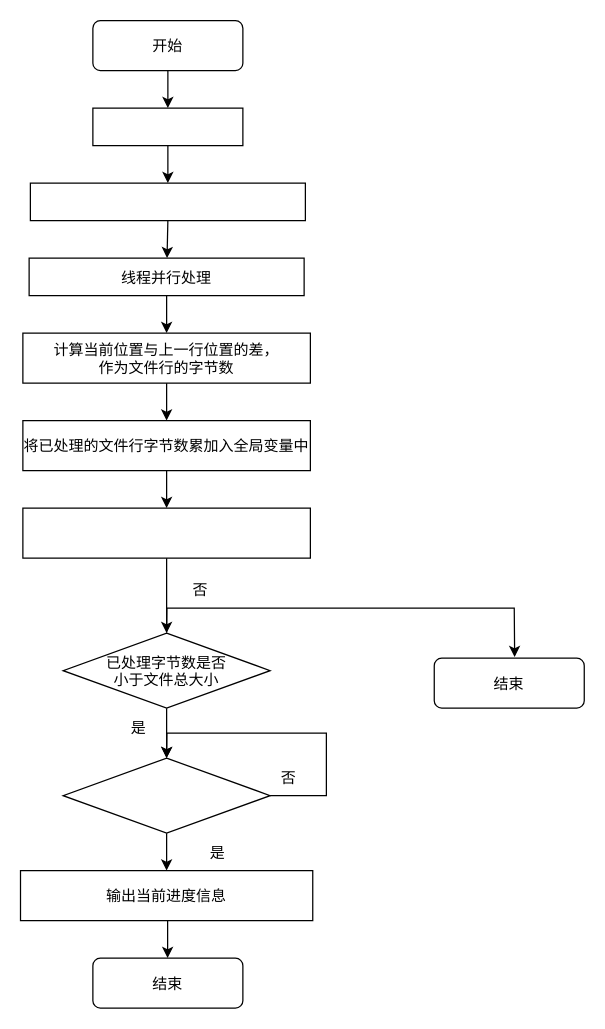
The diagram is 605 pixels wide and 1029 high, and some of its shapes have lost their labels. Each missing label, with the box of its shape:
定义全局变量，已处理的总字节数: (29, 182, 305, 221)
是否大于上一百分比数: (62, 757, 270, 833)
根据已处理的字节数 计算当前百分比数（取整）: (22, 507, 310, 558)
获取文件大小: (92, 107, 243, 146)
